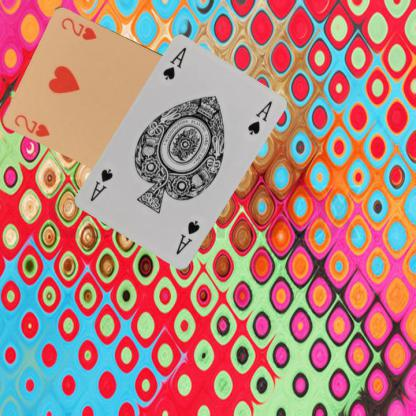2h: (11, 112, 52, 138)
As: (173, 218, 202, 256), (160, 45, 188, 82)
